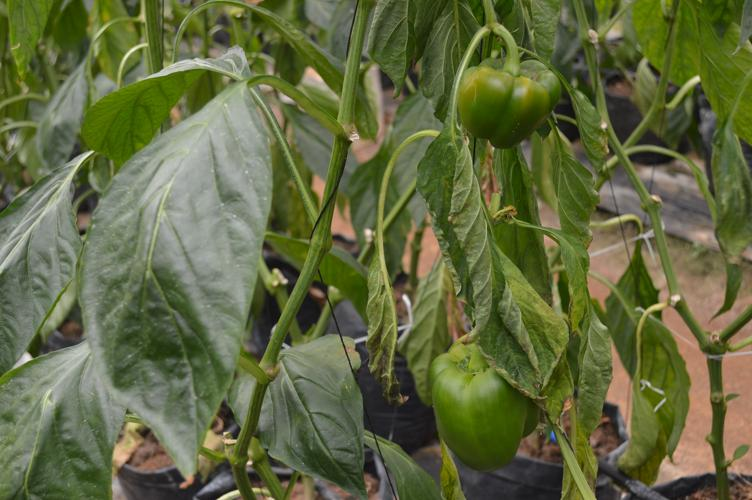BellPepper: (427, 335, 547, 476), (452, 47, 564, 158)
